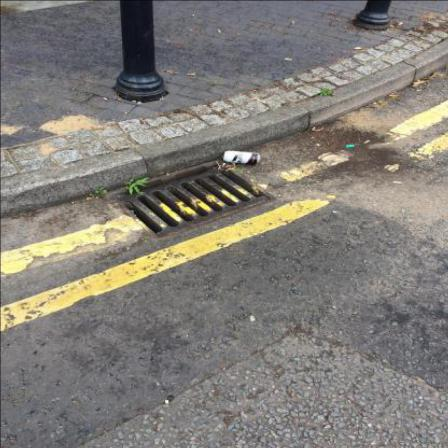Can: (224, 151, 261, 165)
Cigarette: (258, 100, 266, 105), (286, 59, 293, 62), (394, 182, 403, 184), (218, 30, 222, 34), (313, 128, 317, 132), (293, 22, 295, 24), (192, 75, 196, 76)
